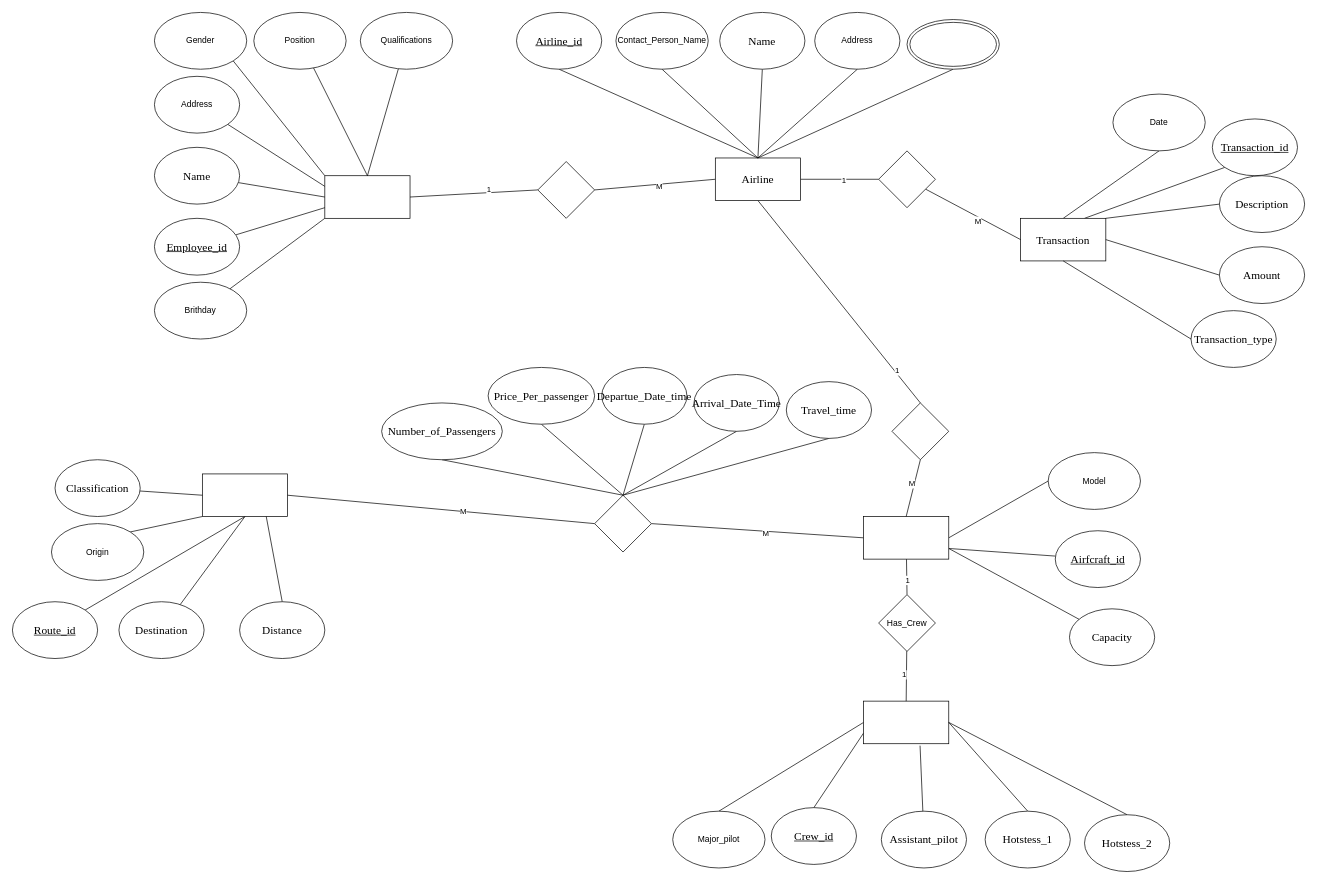
Image size: 1317x884. Some labels were removed from this diagram. Each missing label, with the centre of its shape:
"Aircraft" goes at point 906,537.
"Assigned_To" goes at point 622,523.
"Crew" goes at point 906,722.
"Employee" goes at point 367,196.
"Owns" goes at point 920,431.
"Records" goes at point 906,179.
"Route" goes at point 245,495.
"Telephone_number" goes at point 952,44.
"Works_For" goes at point 566,189.
